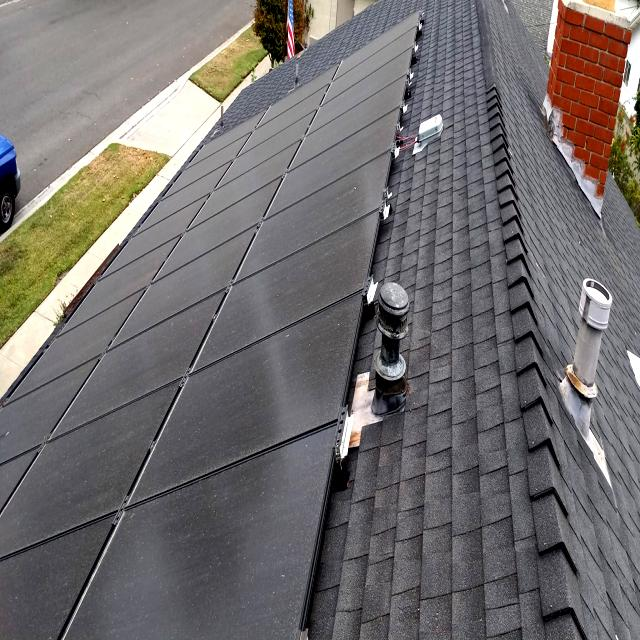dust: (196, 345, 316, 469), (150, 516, 280, 625), (270, 180, 366, 294), (23, 424, 138, 512)
